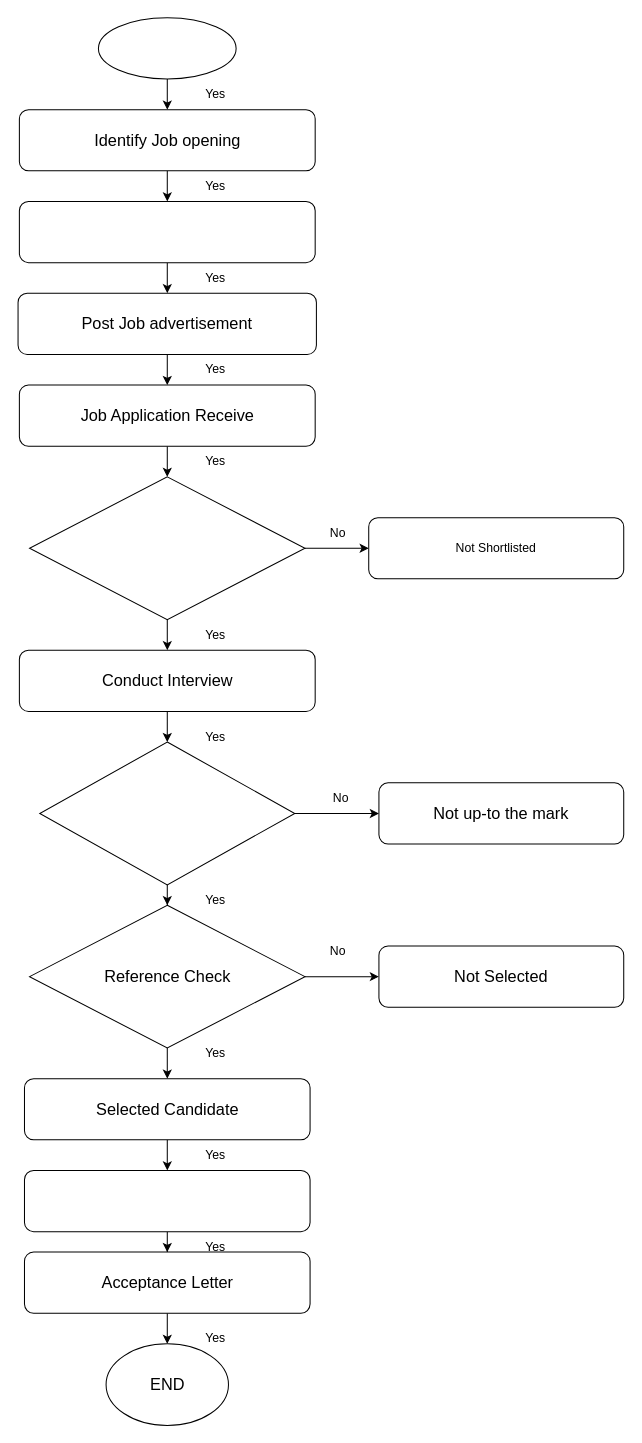
The diagram is 642 pixels wide and 1443 high, and some of its shapes have lost their labels. Each missing label, with the centre of its shape:
Define job requirement: point 166,231
Evaluation.: point 167,813
Offer Letter: point 166,1200
Review Application: point 167,548
START: point 166,48
